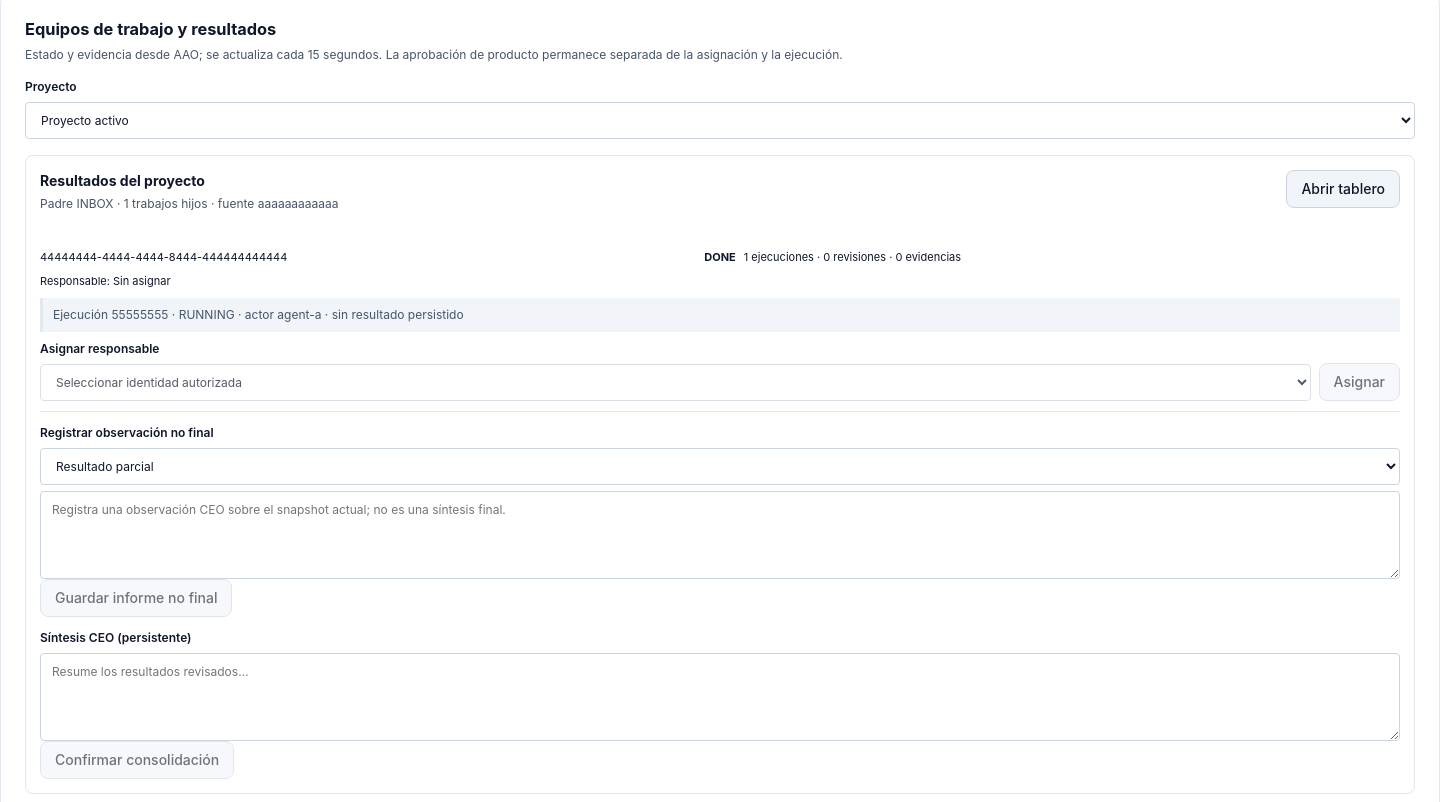
Test: office work group consolidation › submits CEO summary against the currently displayed source hash
Expected: the text "DONE" is shown, [704,249,736,265]
Type "He revisado el resultado y la evidencia." into the text box labelled "Síntesis CEO (persistente)" at (720, 697), box [40,653,1400,741]
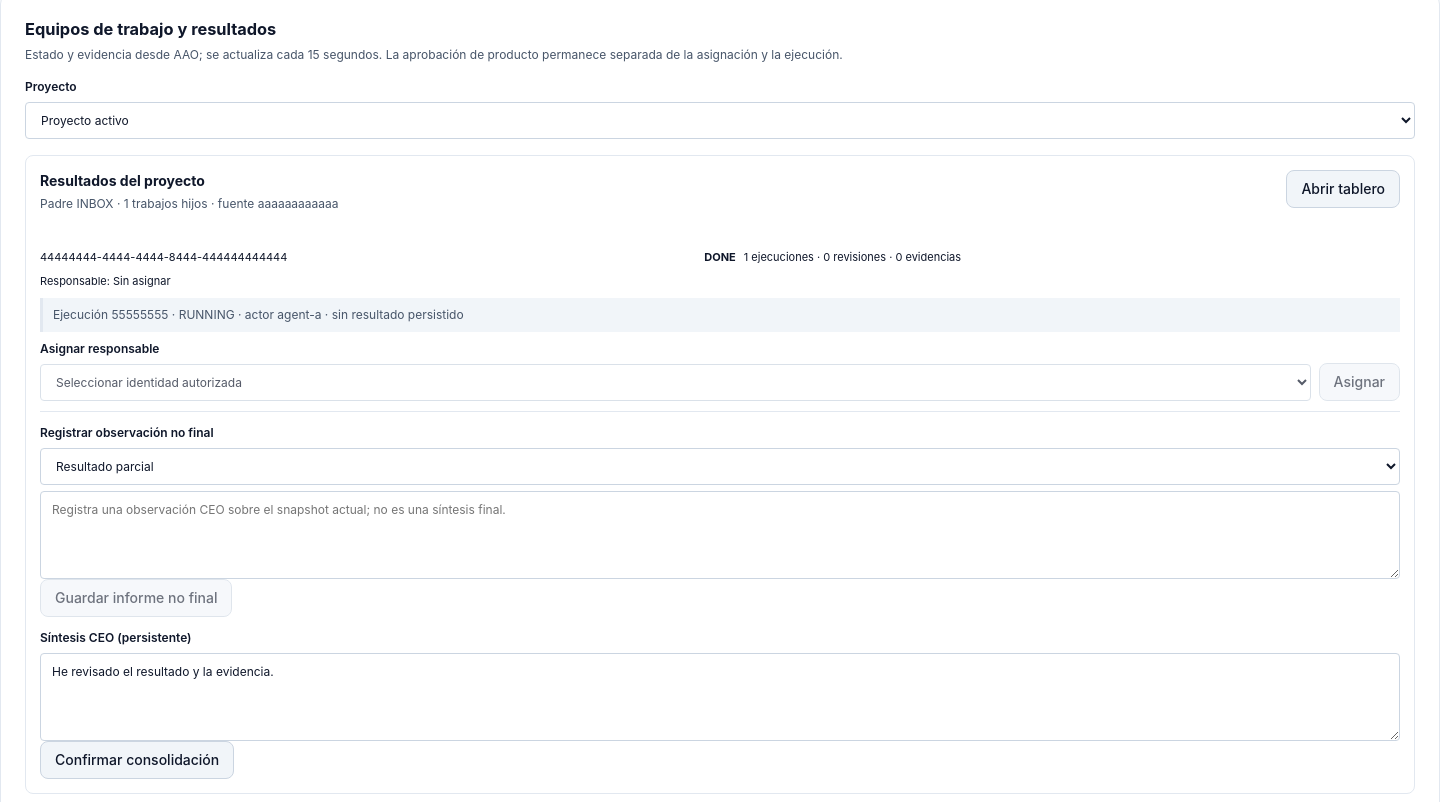
Click the button "Confirmar consolidación" at (137, 760), box [40,741,234,779]
(page scrolled)
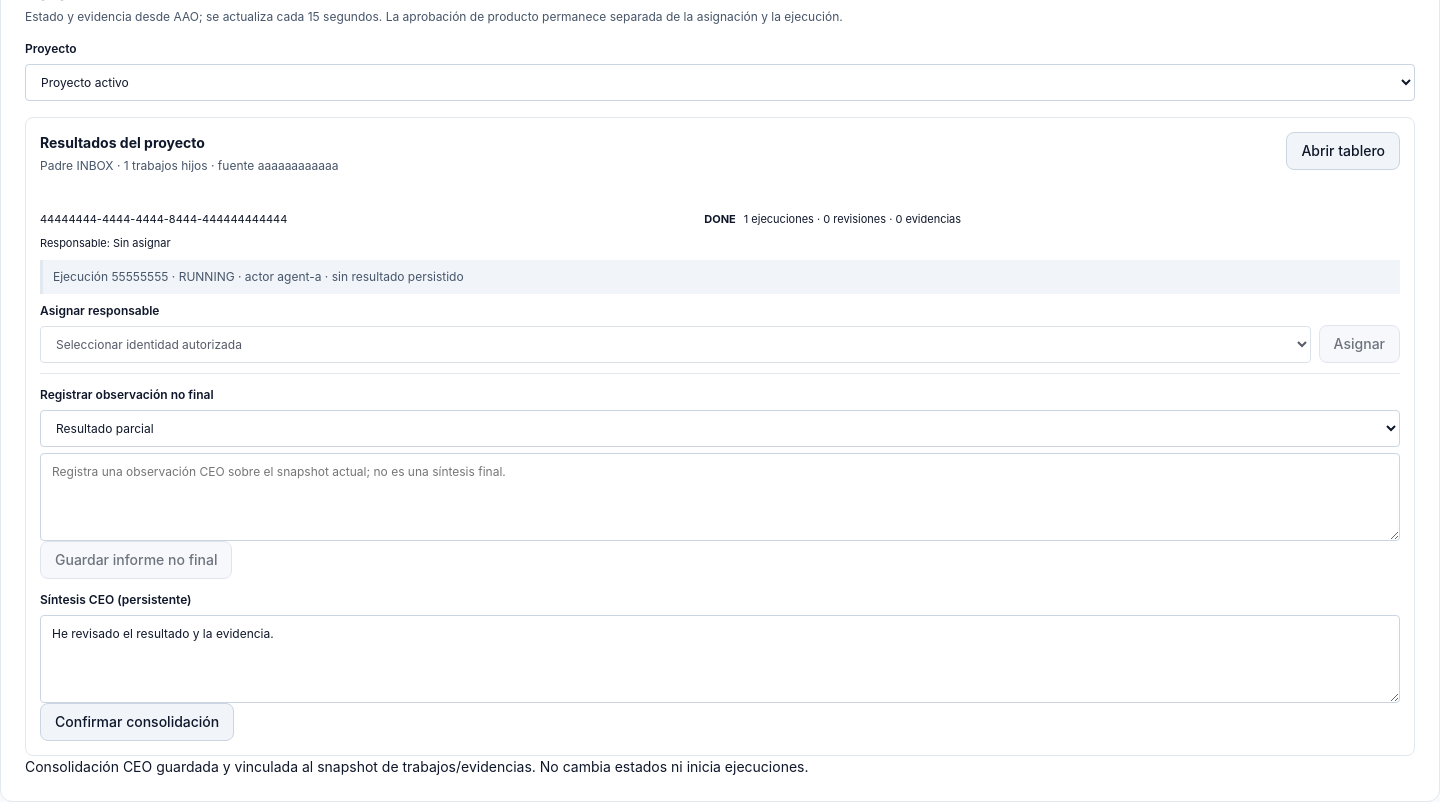
Now the text "Consolidación CEO guardada" is shown, box [25,758,808,775]
